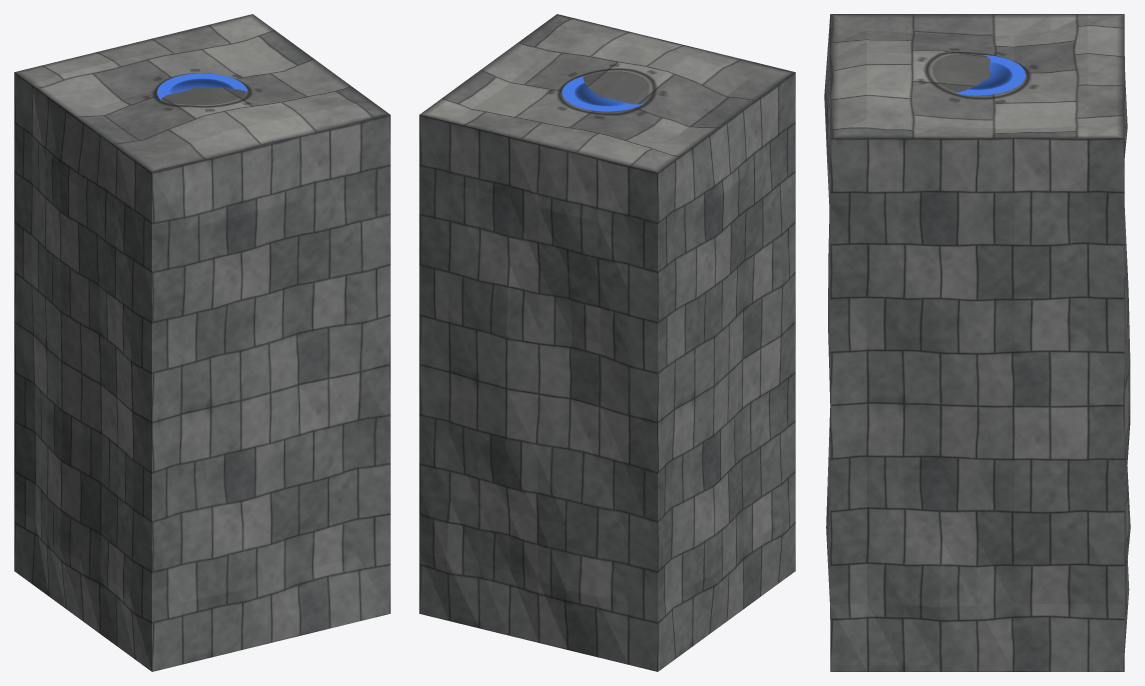
Rendered from dungeon_wall_claimed.obj.
3 views of the same model, side by side, from view 1: azimuth 30°, elevation 25°; view 2: azimuth 150°, elevation 25°; view 3: azimuth 270°, elevation 25° (orthographic). The views are drawn at different scales.
Parts seen in each view (by area): view 1: geometry_0, geometry_1, geometry_3; view 2: geometry_0, geometry_1, geometry_3; view 3: geometry_0, geometry_1, geometry_3.
Boxes of the visible parts, <box> form: geometry_0: <box>14,72,390,671</box>; geometry_1: <box>14,14,390,172</box>; geometry_3: <box>157,73,247,100</box>; geometry_0: <box>419,72,795,671</box>; geometry_1: <box>419,14,795,172</box>; geometry_3: <box>562,76,643,111</box>; geometry_0: <box>824,15,1130,671</box>; geometry_1: <box>830,14,1124,138</box>; geometry_3: <box>955,54,1025,95</box>.
Size of the model in its own units: 1.04 by 2.03 by 1.04.
Materials: 3 (3 with a texture image).
